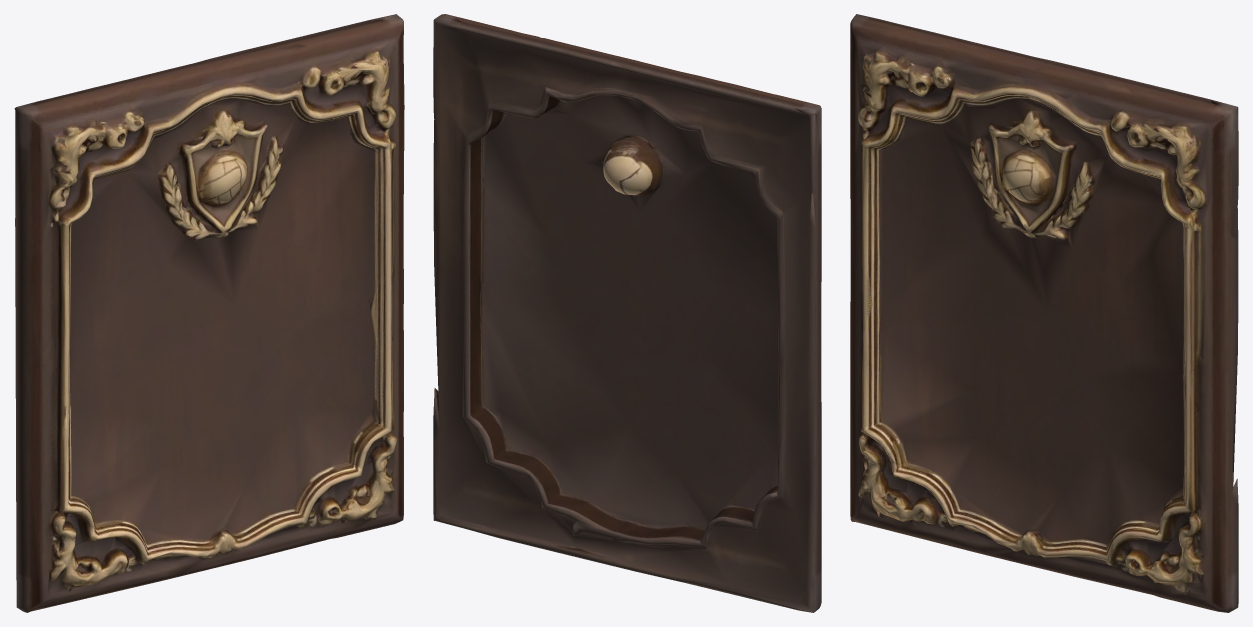
The model's file is quadro.glb.
The picture shows the model from 3 angles, left to right: view 1: azimuth 30°, elevation 25°; view 2: azimuth 150°, elevation 25°; view 3: azimuth 330°, elevation 25°; orthographic projection.
Size of the model in its own units: 1.59 by 2 by 0.2424.
1 material, 1 textured.
